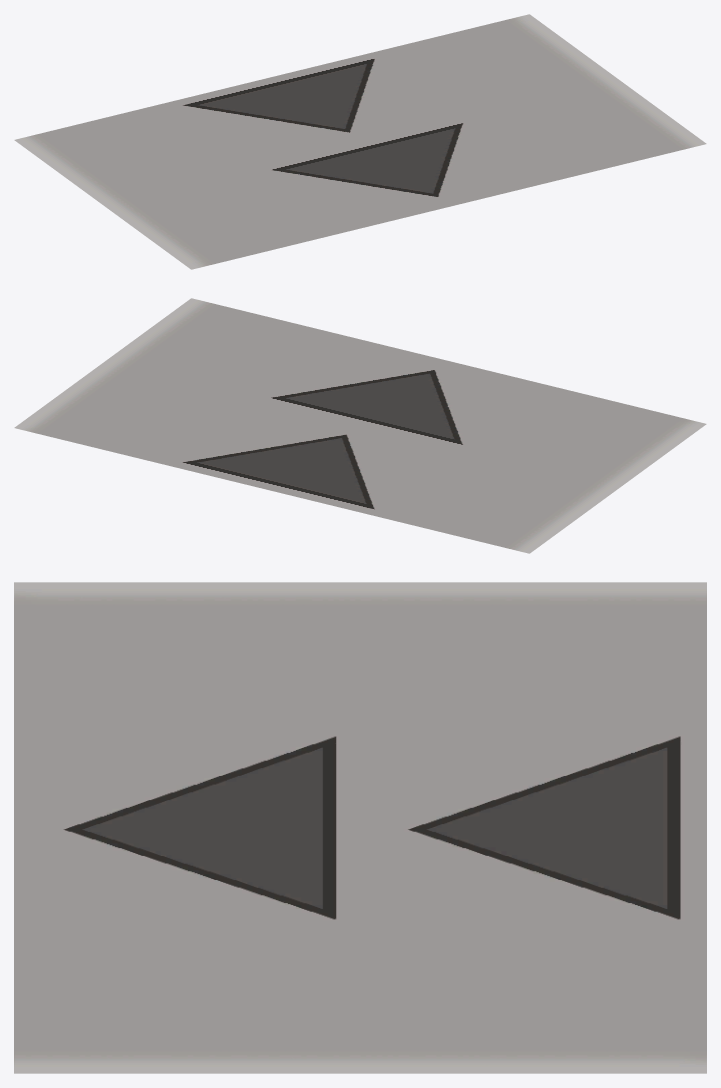
Rendered from ThePass_Slim_Scrolling.fbx.
3 views of the same model, one above another, from view 1: azimuth 30°, elevation 25°; view 2: azimuth 150°, elevation 25°; view 3: azimuth 270°, elevation 25° (orthographic). The views are drawn at different scales.
Parts seen in each view (by area): view 1: ThePass_Slim_Scrolling; view 2: ThePass_Slim_Scrolling; view 3: ThePass_Slim_Scrolling.
Part boxes in pixels (x1,y1,x2,y2): ThePass_Slim_Scrolling: (14,14,706,269); ThePass_Slim_Scrolling: (14,298,706,553); ThePass_Slim_Scrolling: (14,582,706,1073).
Bounding box in the file's own units: 2.01 × 0 × 1.2.
Materials: 1 (1 with a texture image).
